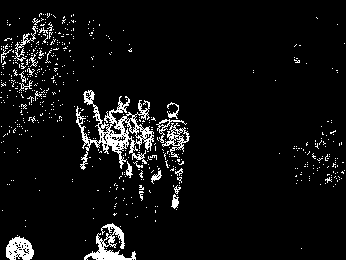person: (159, 101, 190, 208), (131, 98, 162, 201), (74, 88, 109, 169), (105, 93, 133, 184)
